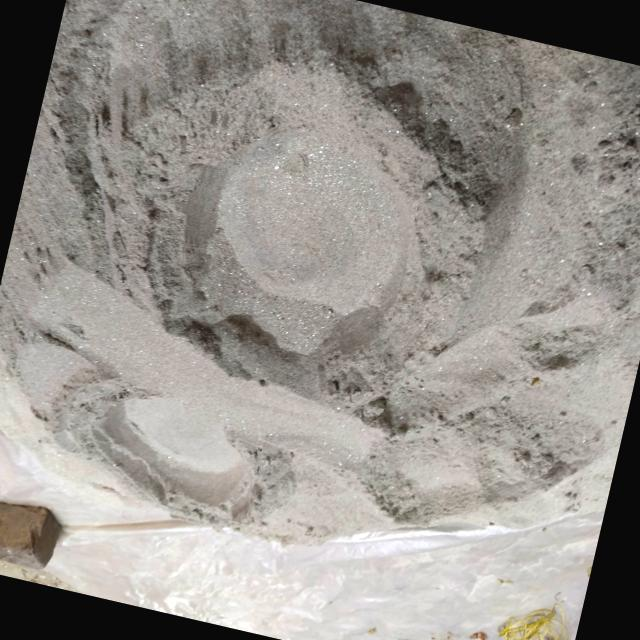C20: (191, 127, 411, 355), (95, 397, 254, 516)
